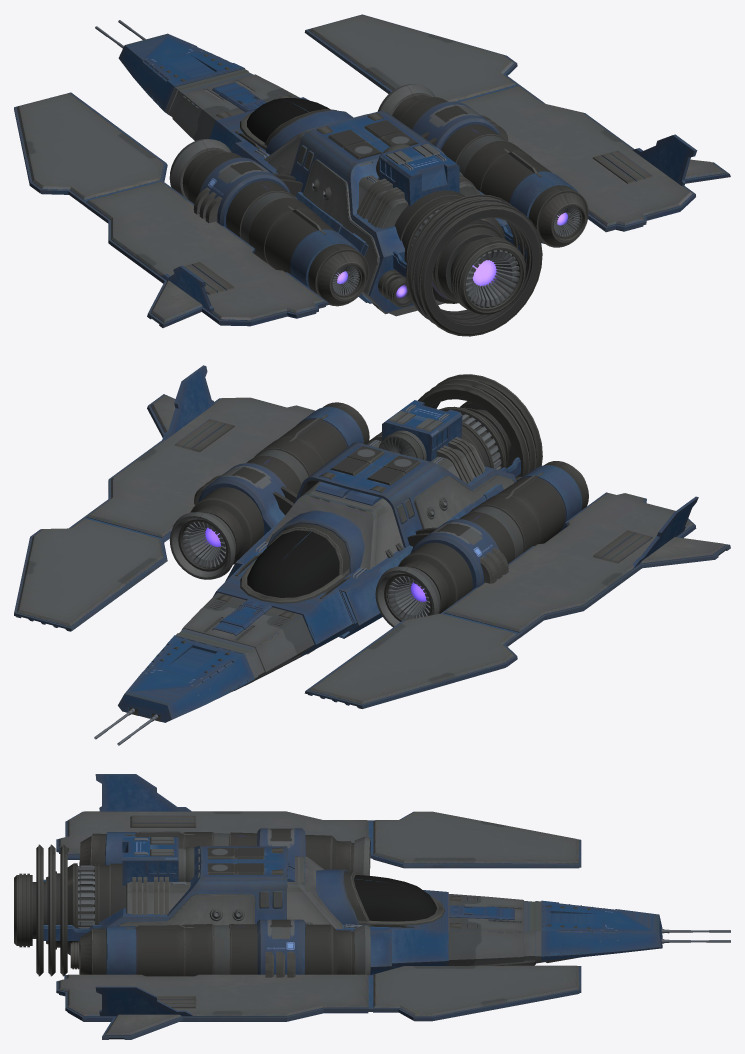
3 renders of one model, top to bottom at view 1: azimuth 30°, elevation 25°; view 2: azimuth 150°, elevation 25°; view 3: azimuth 270°, elevation 25°, orthographic. The views are drawn at different scales.
Visible parts, largest first — view 1: body; view 2: body; view 3: body.
Boxes of the visible parts, bbox=[...] form: body: bbox=[14, 14, 730, 336]; body: bbox=[14, 365, 730, 745]; body: bbox=[14, 774, 730, 1039].
Size of the model in its own units: 44.95 by 10.52 by 53.03.
1 material, 1 textured.
